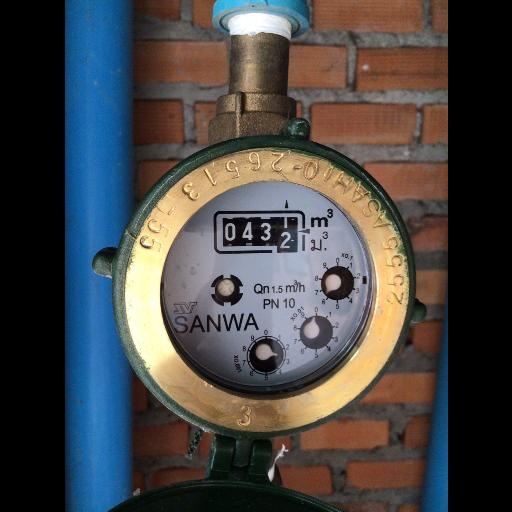0: (222, 218, 240, 247)
1: (277, 217, 298, 253)
3: (258, 217, 277, 246)
4: (239, 218, 257, 247)
border_water_meter_number: (213, 211, 305, 254)
